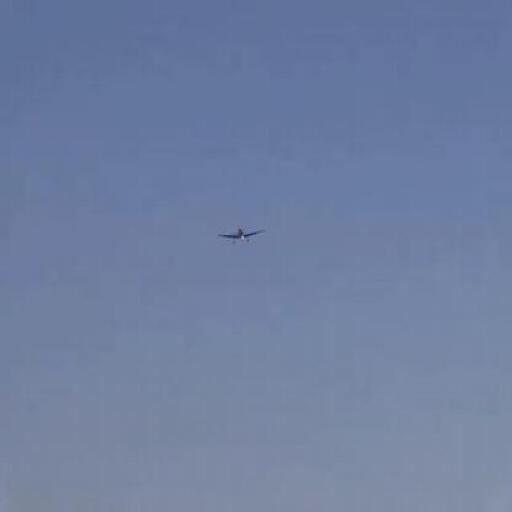aircraft: (217, 225, 267, 245)
